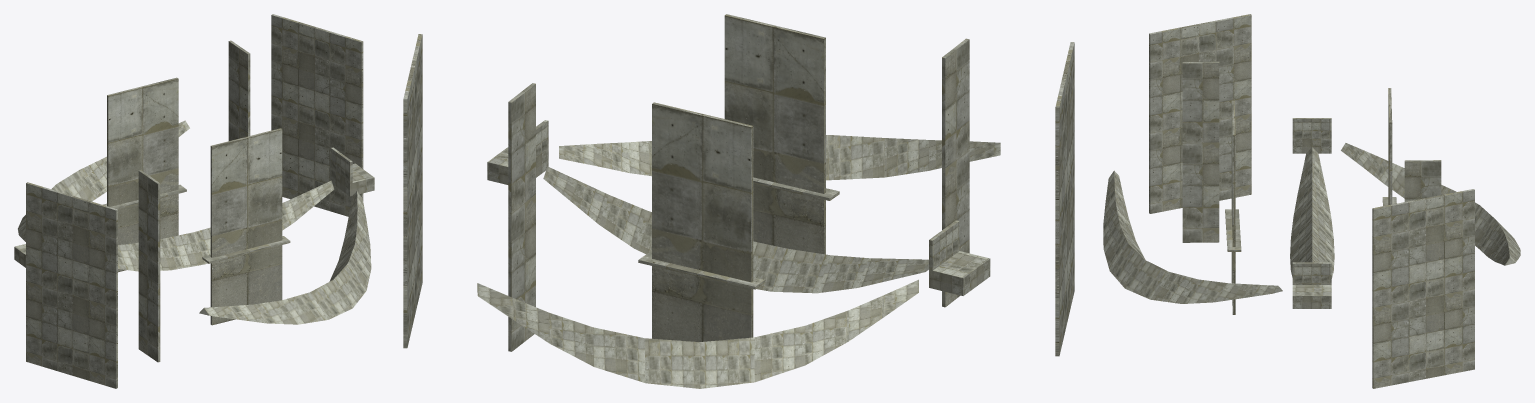
The model's file is Corridor_12.fbx.
3 views of the same model, side by side, from view 1: azimuth 30°, elevation 25°; view 2: azimuth 150°, elevation 25°; view 3: azimuth 270°, elevation 25° (orthographic). The views are drawn at different scales.
Parts seen in each view (by area): view 1: Corridor_12.002, Corridor_12.003, Corridor_12.001; view 2: Corridor_12.002, Corridor_12.003, Corridor_12.001; view 3: Corridor_12.002, Corridor_12.003, Corridor_12.001.
Part boxes in pixels (box(x1,y1,x2,y2)): Corridor_12.002: box(14, 14, 374, 388); Corridor_12.003: box(18, 120, 371, 324); Corridor_12.001: box(118, 180, 334, 271); Corridor_12.002: box(403, 14, 1074, 356); Corridor_12.003: box(477, 135, 1000, 388); Corridor_12.001: box(543, 166, 928, 293); Corridor_12.002: box(1149, 14, 1474, 388); Corridor_12.003: box(1103, 143, 1520, 303); Corridor_12.001: box(1290, 147, 1334, 278).
Bounding box in the file's own units: 24667 × 10564 × 22258.
